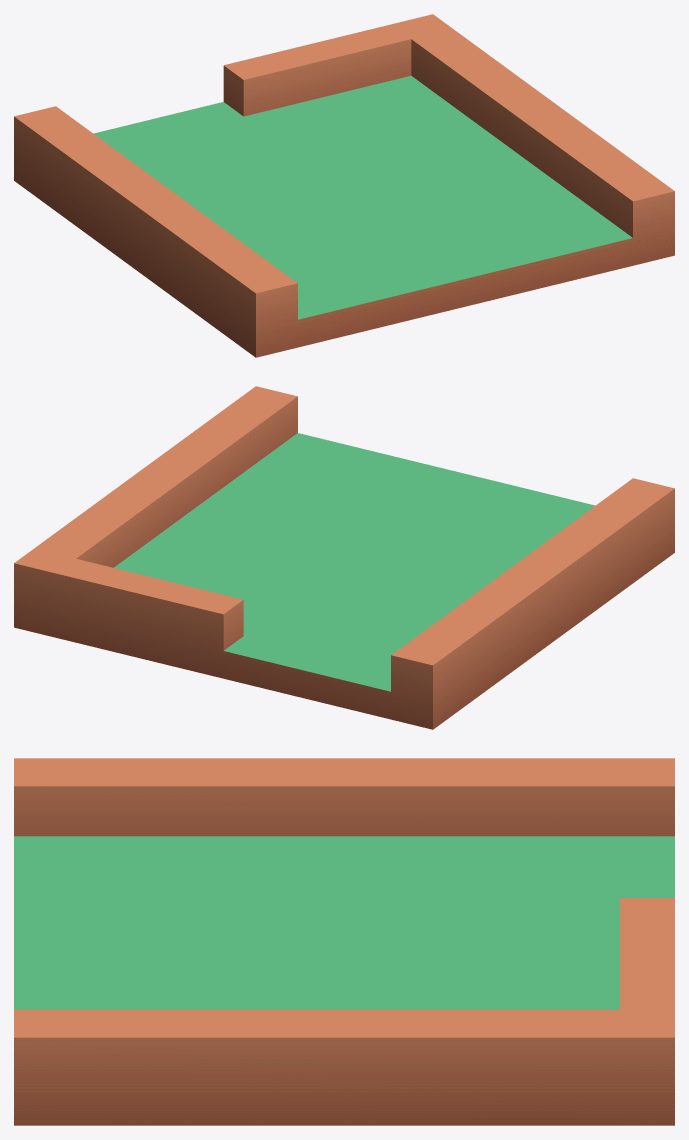
The model's file is wall-left.glb.
The picture shows the model from 3 angles, top to bottom: view 1: azimuth 30°, elevation 25°; view 2: azimuth 150°, elevation 25°; view 3: azimuth 270°, elevation 25°; orthographic projection. The views are drawn at different scales.
Parts seen in each view (by area): view 1: wall-left; view 2: wall-left; view 3: wall-left.
Part boxes in pixels (left/top/right/bottom): wall-left: left=14, top=14, right=674, bottom=357; wall-left: left=14, top=386, right=674, bottom=729; wall-left: left=14, top=758, right=674, bottom=1125.
Bounding box in the file's own units: 0.9999 × 0.1467 × 0.9999.
1 material, 1 textured.
